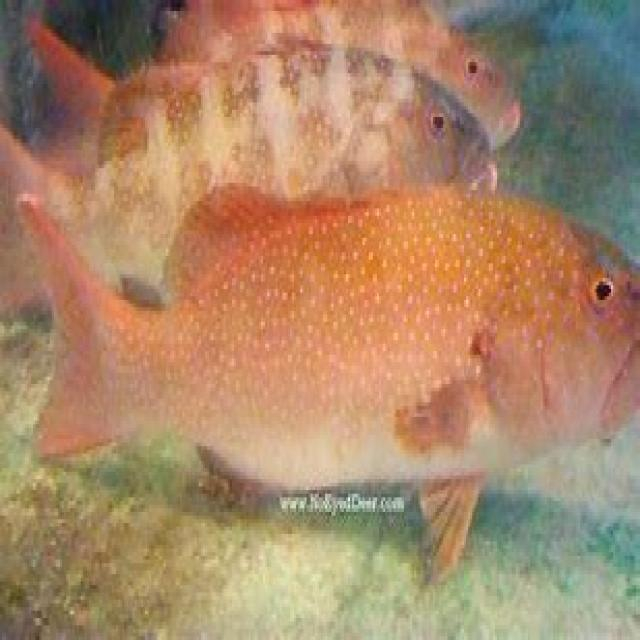Plectropomus-leopardus: (20, 157, 640, 566)
